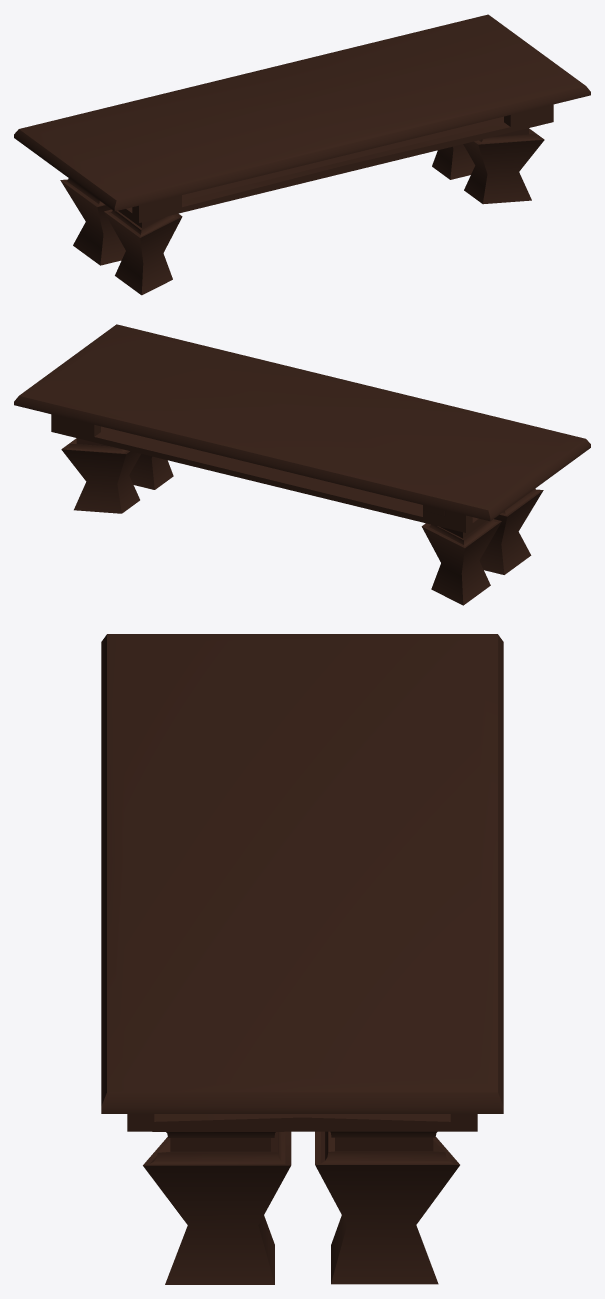
Rendered from Dinning table.fbx.
3 renders of one model, top to bottom at view 1: azimuth 30°, elevation 25°; view 2: azimuth 150°, elevation 25°; view 3: azimuth 270°, elevation 25°, orthographic. The views are drawn at different scales.
Visible parts, largest first — view 1: Box056; view 2: Box056; view 3: Box056.
Part boxes in pixels (x1,y1,x2,y2): Box056: (14,14,590,295); Box056: (14,324,590,605); Box056: (101,634,503,1284).
Bounding box in the file's own units: 202 × 47.68 × 74.05.
